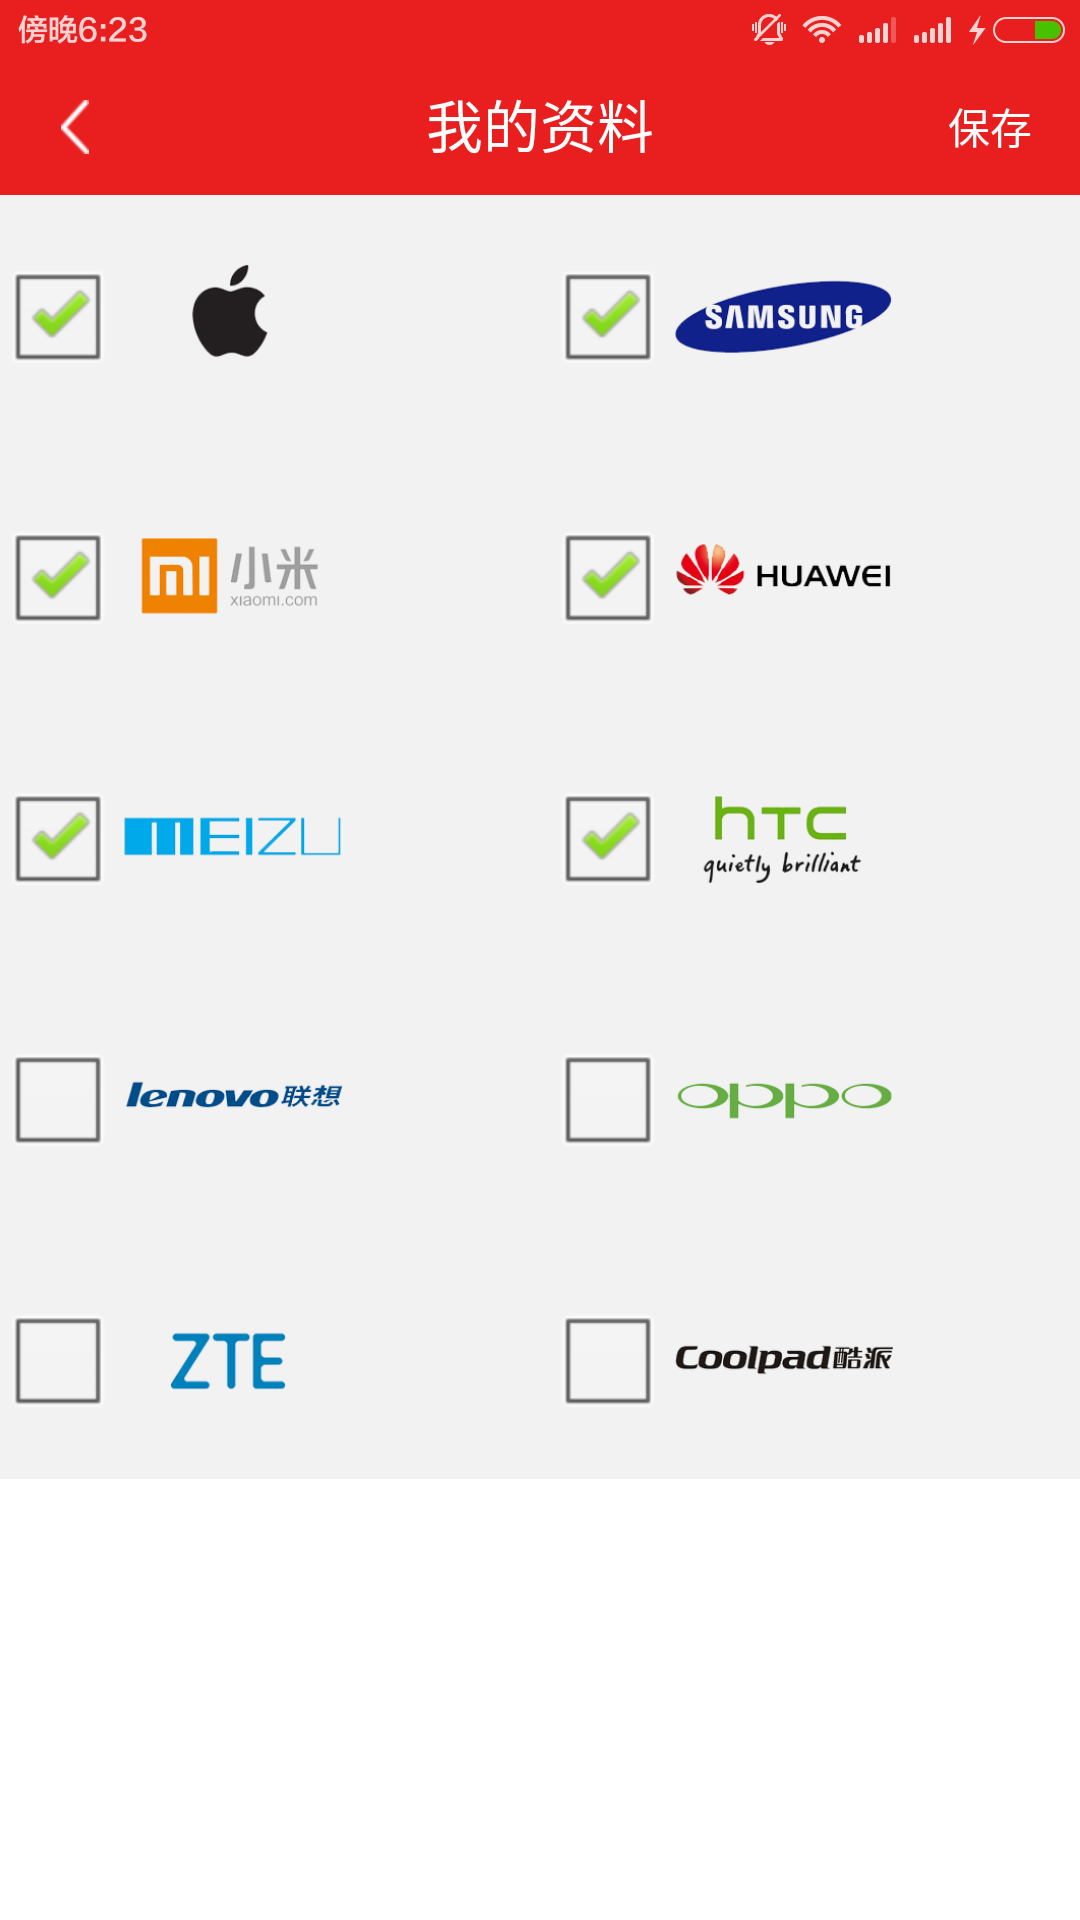checkbox: (531, 762, 906, 924), (556, 1299, 920, 1410), (1, 247, 123, 385), (538, 1040, 671, 1153)
